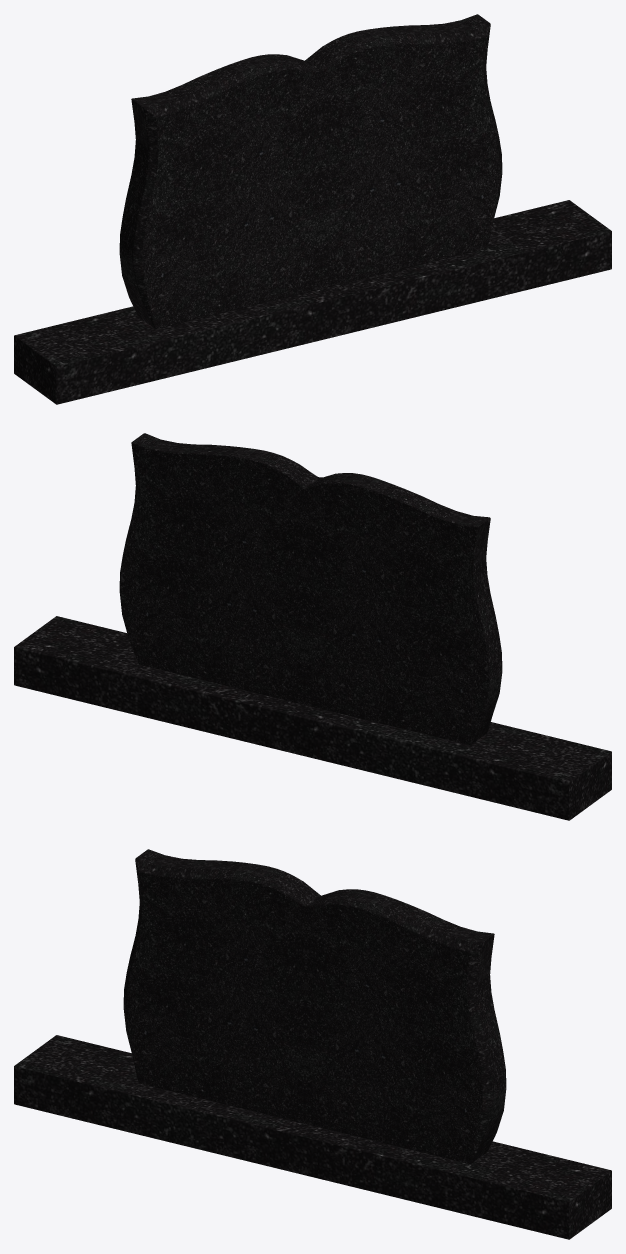
Rendered from Number 26.gltf.
3 renders of one model, top to bottom at view 1: azimuth 30°, elevation 25°; view 2: azimuth 150°, elevation 25°; view 3: azimuth 330°, elevation 25°, orthographic.
Visible parts, largest first — view 1: Cube.027, Cube.026; view 2: Cube.027, Cube.026; view 3: Cube.027, Cube.026.
Boxes of the visible parts, x1,y1,x2,y2 form: Cube.027: (119, 14, 502, 328); Cube.026: (14, 200, 611, 404); Cube.027: (119, 433, 502, 745); Cube.026: (14, 616, 611, 820); Cube.027: (123, 849, 506, 1163); Cube.026: (14, 1035, 611, 1239).
Size of the model in its own units: 1.5 by 0.7 by 0.2.
1 material, 1 textured.
